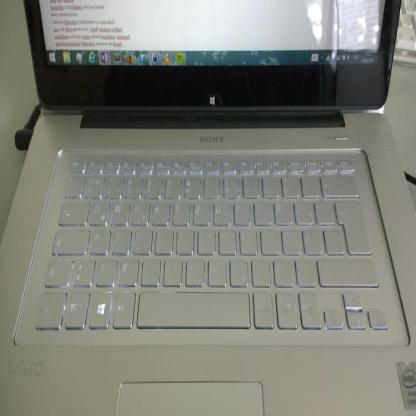board: (0, 0, 400, 412)
